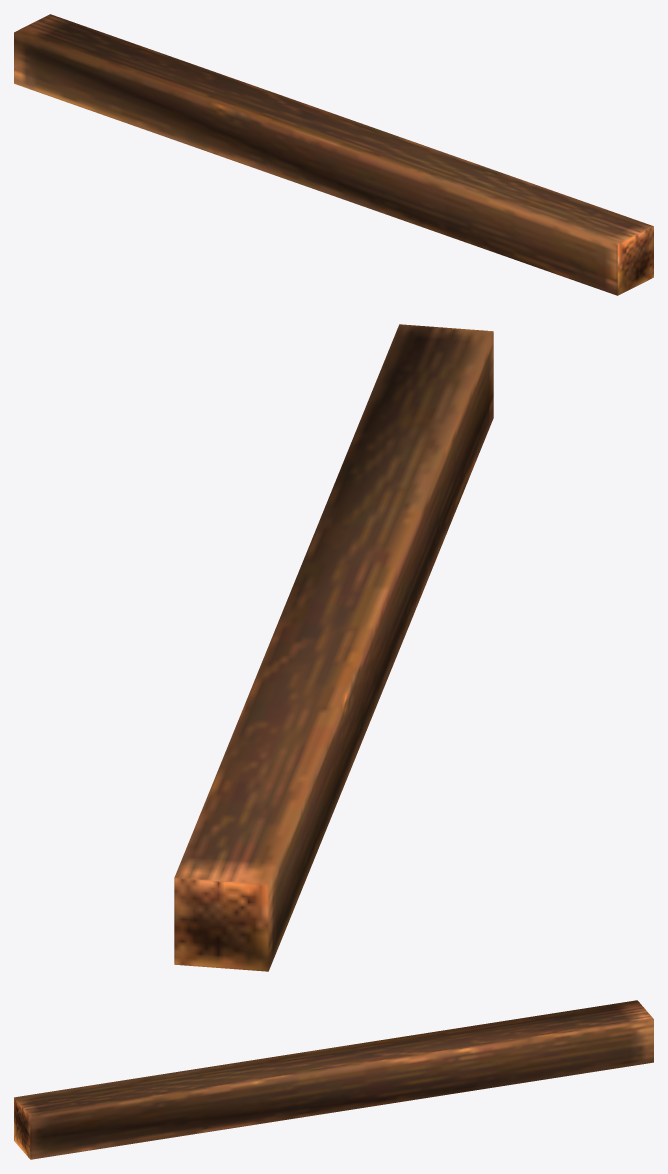
The model's file is SWORDLIGHT20_JAILBRACE102.fbx.
3 views of the same model, one above another, from view 1: azimuth 30°, elevation 25°; view 2: azimuth 150°, elevation 25°; view 3: azimuth 270°, elevation 25° (orthographic). The views are drawn at different scales.
Parts seen in each view (by area): view 1: SWORDLIGHT20_JAILBRACE102; view 2: SWORDLIGHT20_JAILBRACE102; view 3: SWORDLIGHT20_JAILBRACE102.
Part boxes in pixels (<box>): SWORDLIGHT20_JAILBRACE102: <box>14,14,653,295</box>; SWORDLIGHT20_JAILBRACE102: <box>174,324,493,971</box>; SWORDLIGHT20_JAILBRACE102: <box>14,1000,653,1159</box>.
Bounding box in the file's own units: 22973 × 4000 × 53456.
1 material, 1 textured.
